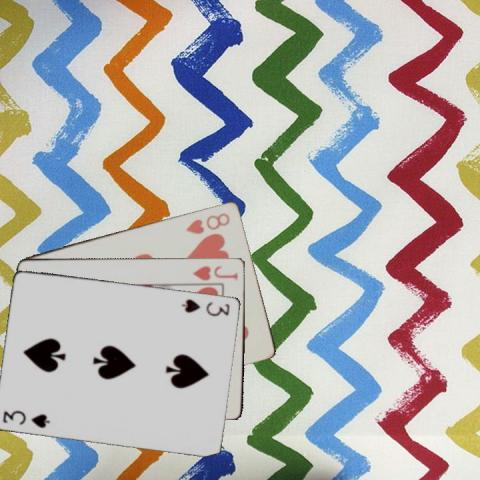3s: (179, 296, 232, 318), (0, 407, 52, 429)
8h: (183, 210, 232, 236)
Jh: (190, 263, 239, 281)
